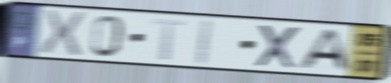0: (89, 14, 127, 58)
A: (294, 28, 353, 73)
I: (192, 17, 217, 68)
T: (151, 17, 188, 62)
X: (37, 7, 88, 57), (253, 22, 303, 72)
